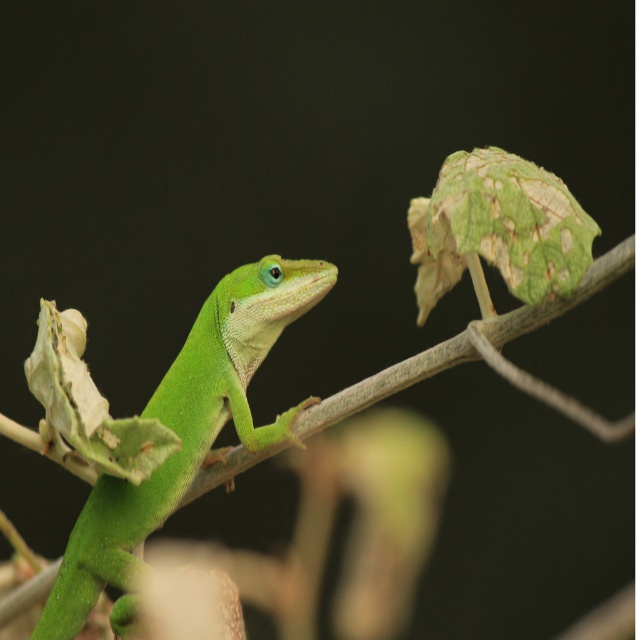Lizard: (38, 237, 338, 628)
